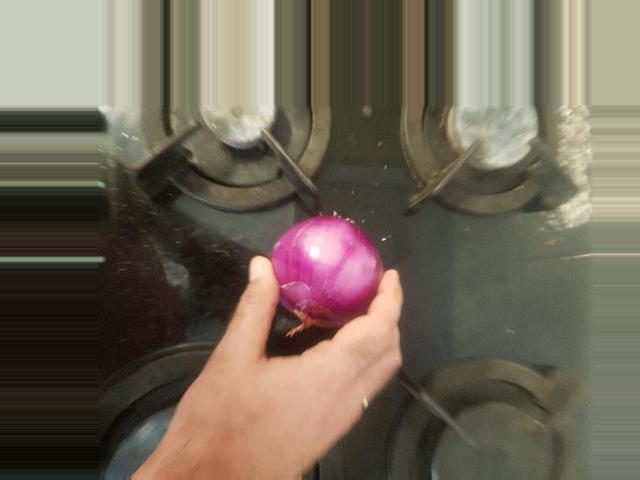onion: (264, 217, 388, 328)
